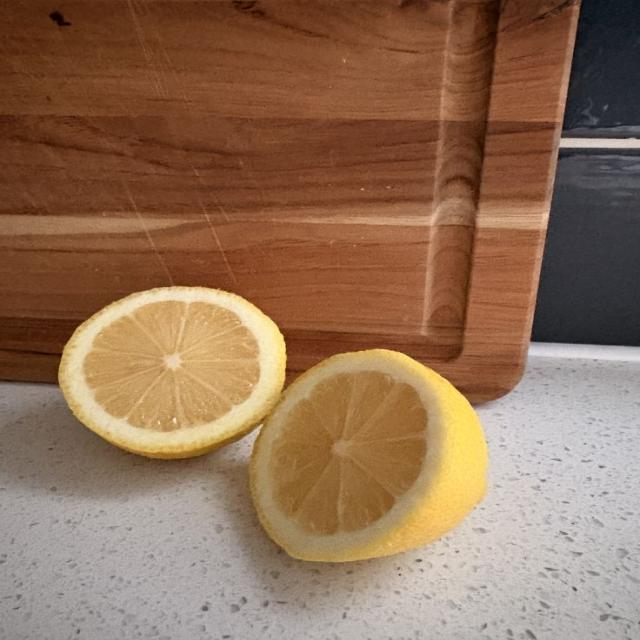lemon: (251, 350, 486, 561), (60, 287, 285, 457)
